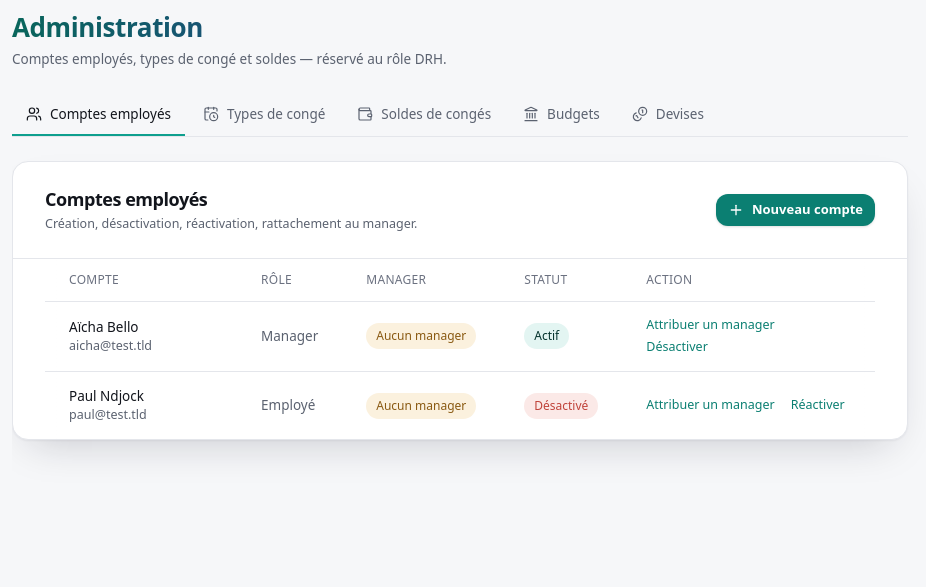
Test: AdminPage — onglet Soldes › charge les soldes du premier employe au montage
Check: the text "Aïcha Bello" is shown, box [69,318,138,336]
Click the button "Soldes de congés" at (424, 115), box [343,94,505,136]
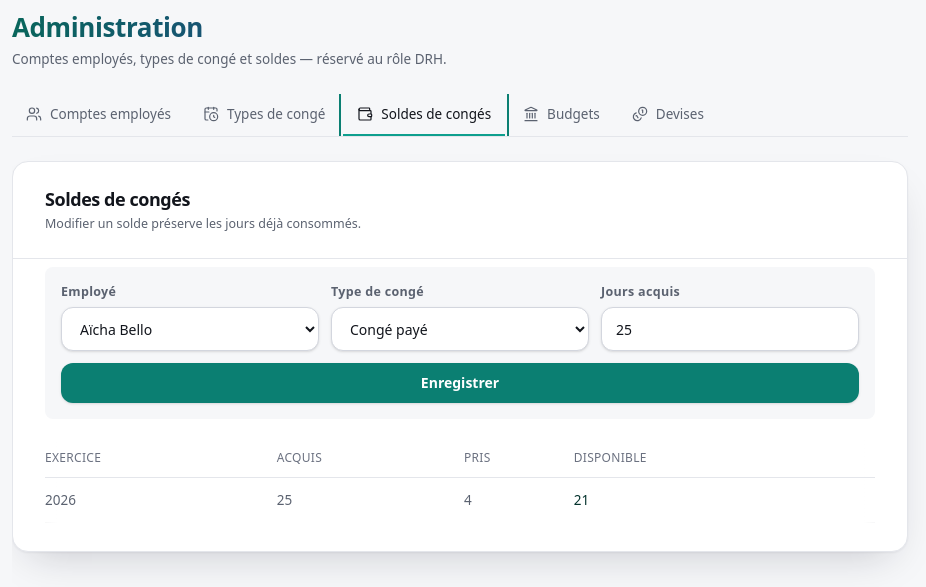
Check: the dropdown labelled "Employé" is shown, box [61,307,319,351]
Check: the text "21" is shown, box [574,478,875,522]
